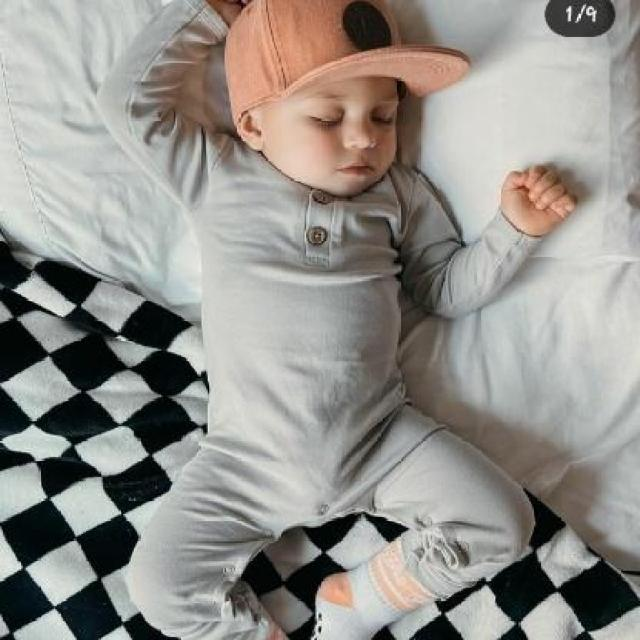baby: (98, 1, 577, 638)
